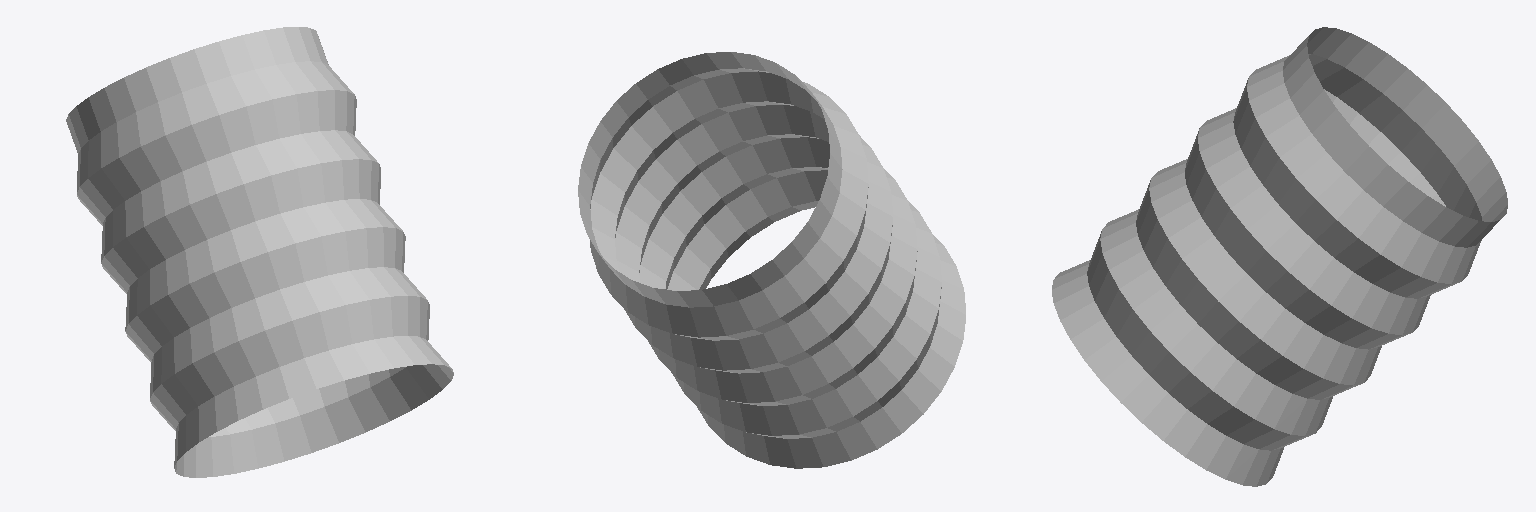
File: HeadBody5.obj
3 views of the same model, side by side, from view 1: azimuth 30°, elevation 25°; view 2: azimuth 150°, elevation 25°; view 3: azimuth 270°, elevation 25° (orthographic).
Parts seen in each view (by area): view 1: HeadTube_Cylinder.008; view 2: HeadTube_Cylinder.008; view 3: HeadTube_Cylinder.008.
Boxes of the visible parts, x1=… form: HeadTube_Cylinder.008: x1=66, y1=27, x2=453, y2=477; HeadTube_Cylinder.008: x1=578, y1=52, x2=965, y2=468; HeadTube_Cylinder.008: x1=1052, y1=27, x2=1507, y2=486.
Bounding box in the file's own units: 0.25 × 0.392 × 0.3848.